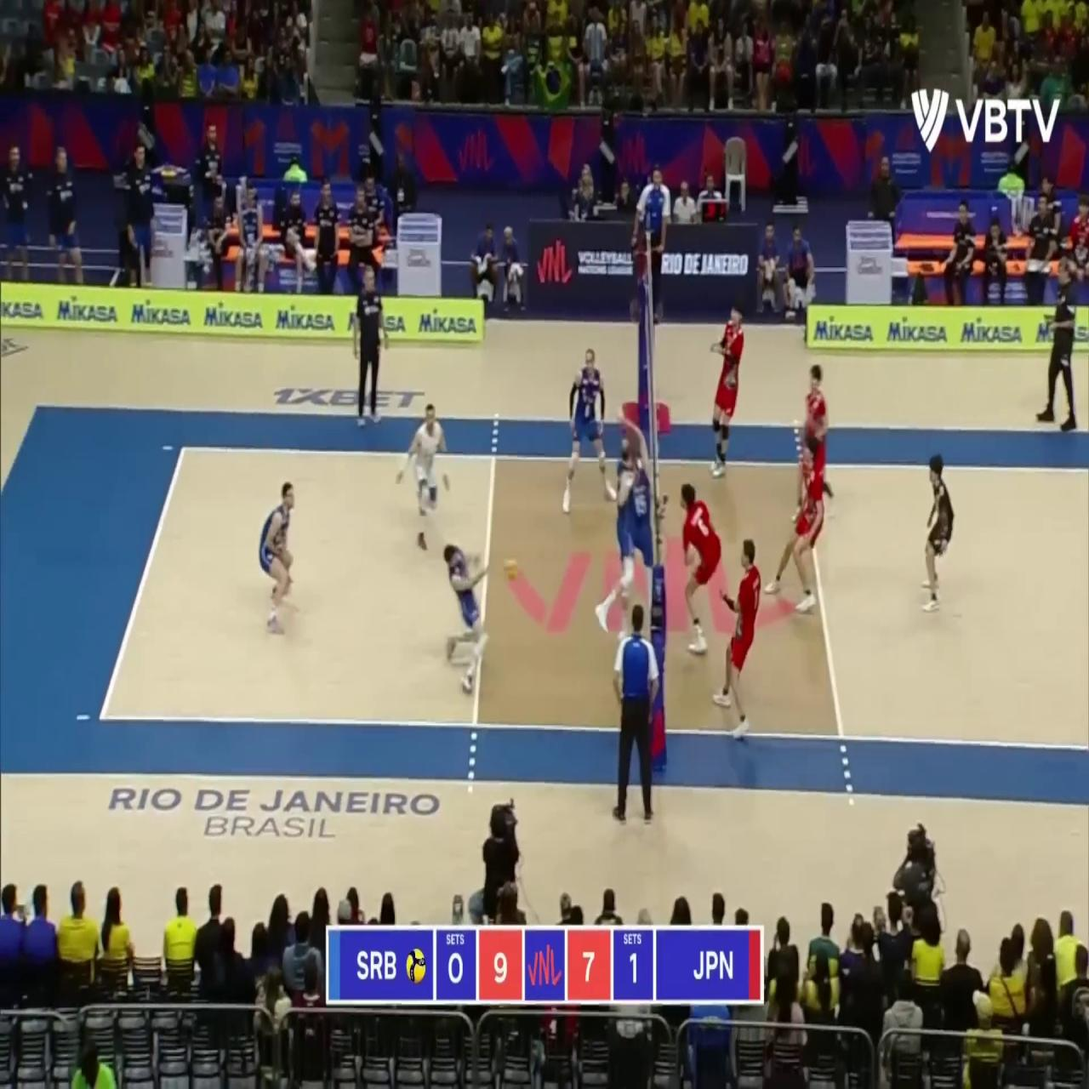ball: (503, 557, 518, 583)
